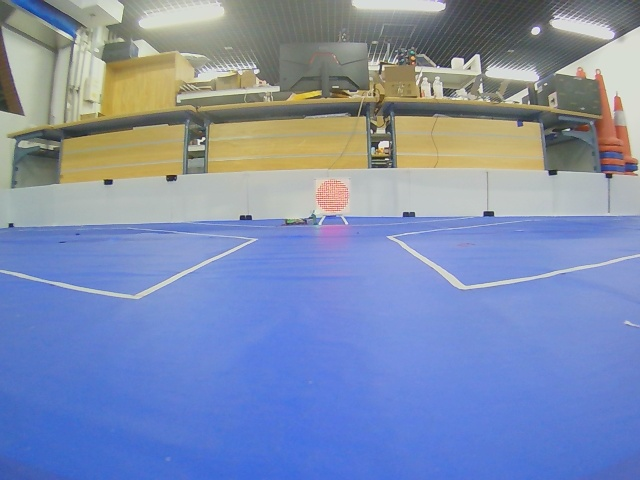red: (315, 179, 350, 215)
